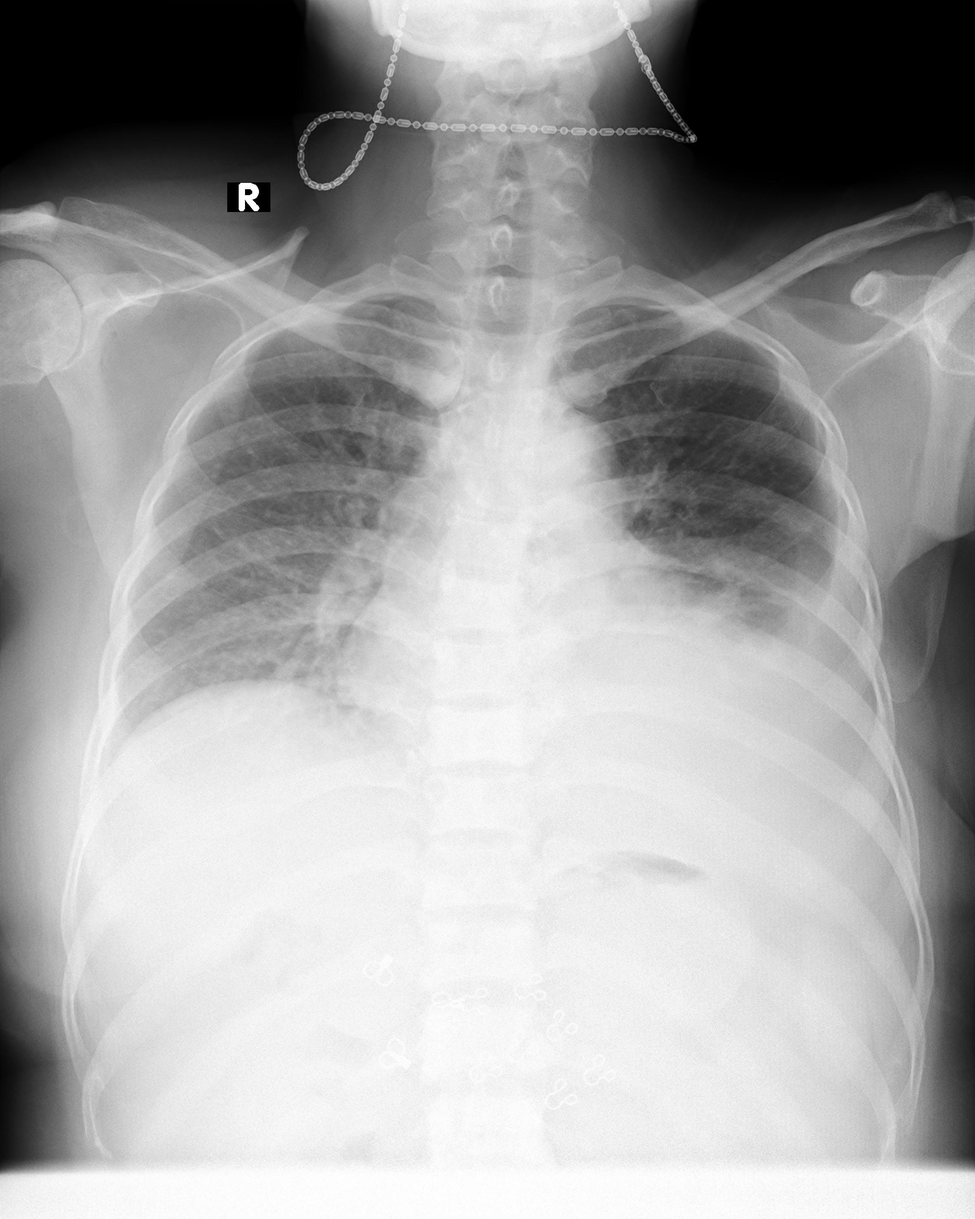Aortic enlargement: (516, 405, 618, 528)
